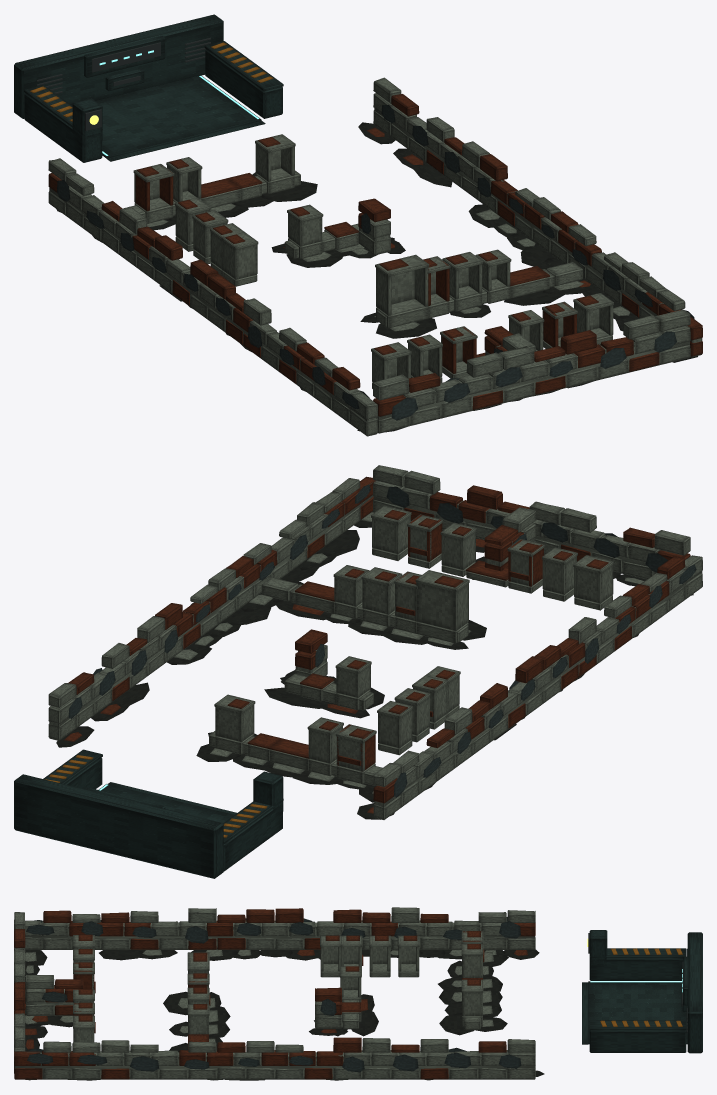
File: ExcavationDepot_5x11.fbx
3 renders of one model, top to bottom at view 1: azimuth 30°, elevation 25°; view 2: azimuth 150°, elevation 25°; view 3: azimuth 270°, elevation 25°, orthographic. The views are drawn at different scales.
Visible parts, largest first — view 1: THStage_ExtractionBay.033, THStage_WestBoundary.033, THStage_BackBoundary.033, THStage_EastBoundary.033, THStage_RuinGroundFragments.022, THStage_FindSupport_06.013, THStage_FindSupport_05.013, THStage_FindSupport_01.013, THStage_FindSupport_08.013, THStage_FindSupport_23.013, THStage_CentralReturn.027, THStage_FindSupport_18.013 (+17 smaller); view 2: THStage_ExtractionBay.033, THStage_WestBoundary.033, THStage_EastBoundary.033, THStage_BackBoundary.033, THStage_RuinGroundFragments.022, THStage_FindSupport_06.013, THStage_FindSupport_05.013, THStage_FindSupport_01.013, THStage_FindSupport_11.013, THStage_RearRoomDivider.033, THStage_FindSupport_17.013, THStage_FindSupport_08.013 (+19 smaller); view 3: THStage_EastBoundary.033, THStage_WestBoundary.033, THStage_ExtractionBay.033, THStage_RuinGroundFragments.022, THStage_RearRoomDivider.033, THStage_BackBoundary.033, THStage_CentralReturn.027, THStage_FindSupport_20.013, THStage_FindSupport_21.013, THStage_FindSupport_23.013, THStage_FindSupport_05.013, THStage_FindSupport_02.013 (+14 smaller).
Boxes of the visible parts, left/top/right/bottom form: THStage_ExtractionBay.033: left=14, top=14, right=283, bottom=162; THStage_WestBoundary.033: left=48, top=158, right=377, bottom=436; THStage_BackBoundary.033: left=373, top=309, right=690, bottom=433; THStage_EastBoundary.033: left=373, top=77, right=702, bottom=357; THStage_RuinGroundFragments.022: left=56, top=122, right=697, bottom=433; THStage_FindSupport_06.013: left=375, top=254, right=429, bottom=328; THStage_FindSupport_05.013: left=255, top=134, right=295, bottom=194; THStage_FindSupport_01.013: left=133, top=164, right=174, bottom=223; THStage_FindSupport_08.013: left=442, top=252, right=483, bottom=311; THStage_FindSupport_23.013: left=222, top=232, right=258, bottom=286; THStage_CentralReturn.027: left=358, top=198, right=390, bottom=255; THStage_FindSupport_18.013: left=287, top=204, right=323, bottom=258; THStage_ExtractionBay.033: left=14, top=749, right=283, bottom=878; THStage_WestBoundary.033: left=373, top=555, right=702, bottom=819; THStage_EastBoundary.033: left=48, top=476, right=375, bottom=740; THStage_BackBoundary.033: left=373, top=465, right=690, bottom=579; THStage_RuinGroundFragments.022: left=56, top=511, right=693, bottom=819; THStage_FindSupport_06.013: left=415, top=570, right=469, bottom=643; THStage_FindSupport_05.013: left=214, top=694, right=255, bottom=754; THStage_FindSupport_01.013: left=335, top=724, right=376, bottom=784; THStage_FindSupport_11.013: left=573, top=555, right=613, bottom=610; THStage_RearRoomDivider.033: left=484, top=507, right=536, bottom=571; THStage_FindSupport_17.013: left=371, top=505, right=411, bottom=560; THStage_FindSupport_08.013: left=361, top=567, right=402, bottom=627; THStage_EastBoundary.033: left=14, top=1037, right=535, bottom=1079; THStage_WestBoundary.033: left=25, top=907, right=535, bottom=949; THStage_ExtractionBay.033: left=582, top=930, right=702, bottom=1053; THStage_RuinGroundFragments.022: left=25, top=949, right=544, bottom=1080; THStage_RearRoomDivider.033: left=25, top=975, right=83, bottom=1015; THStage_BackBoundary.033: left=14, top=912, right=25, bottom=1073; THStage_CentralReturn.027: left=315, top=987, right=341, bottom=1028; THStage_FindSupport_20.013: left=397, top=935, right=419, bottom=977; THStage_FindSupport_21.013: left=369, top=935, right=390, bottom=977; THStage_FindSupport_23.013: left=320, top=935, right=341, bottom=977; THStage_FindSupport_05.013: left=461, top=979, right=483, bottom=1026; THStage_FindSupport_02.013: left=461, top=944, right=483, bottom=977.
Bounding box in the file's own units: 5 × 0.796 × 10.82.
Materials: 4 (1 with a texture image).
